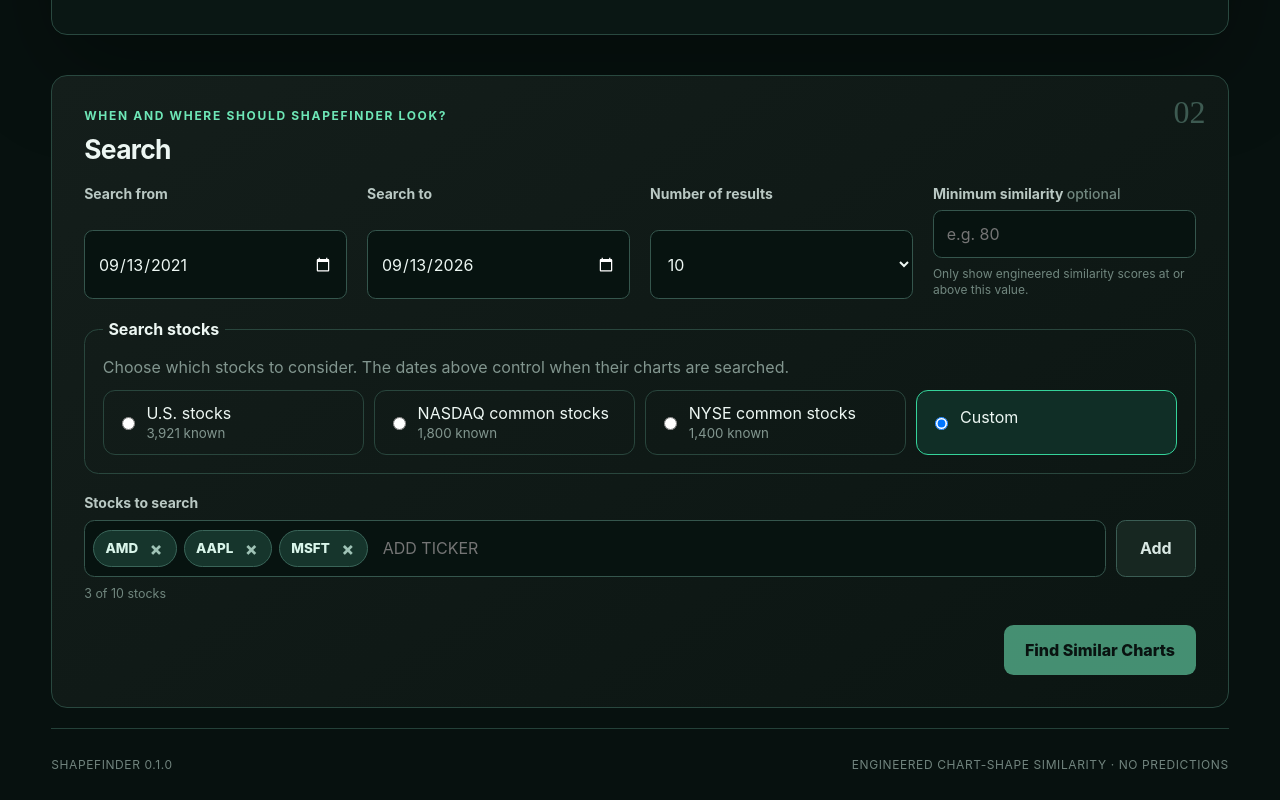
Test case: similarity search workflow › renders provider-backed universe choices and keeps chips in Custom mode
(page scrolled)
Expected: the radio button labelled "U.S. stocks 3,921 known" is shown, left=122, top=417, right=135, bottom=430
Expected: the field labelled "Stocks to search" is shown, left=376, top=529, right=1097, bottom=568
Click the radio button labelled "NASDAQ common stocks 1,800 known" at coordinates (399, 424), box left=393, top=417, right=406, bottom=430
(page scrolled)
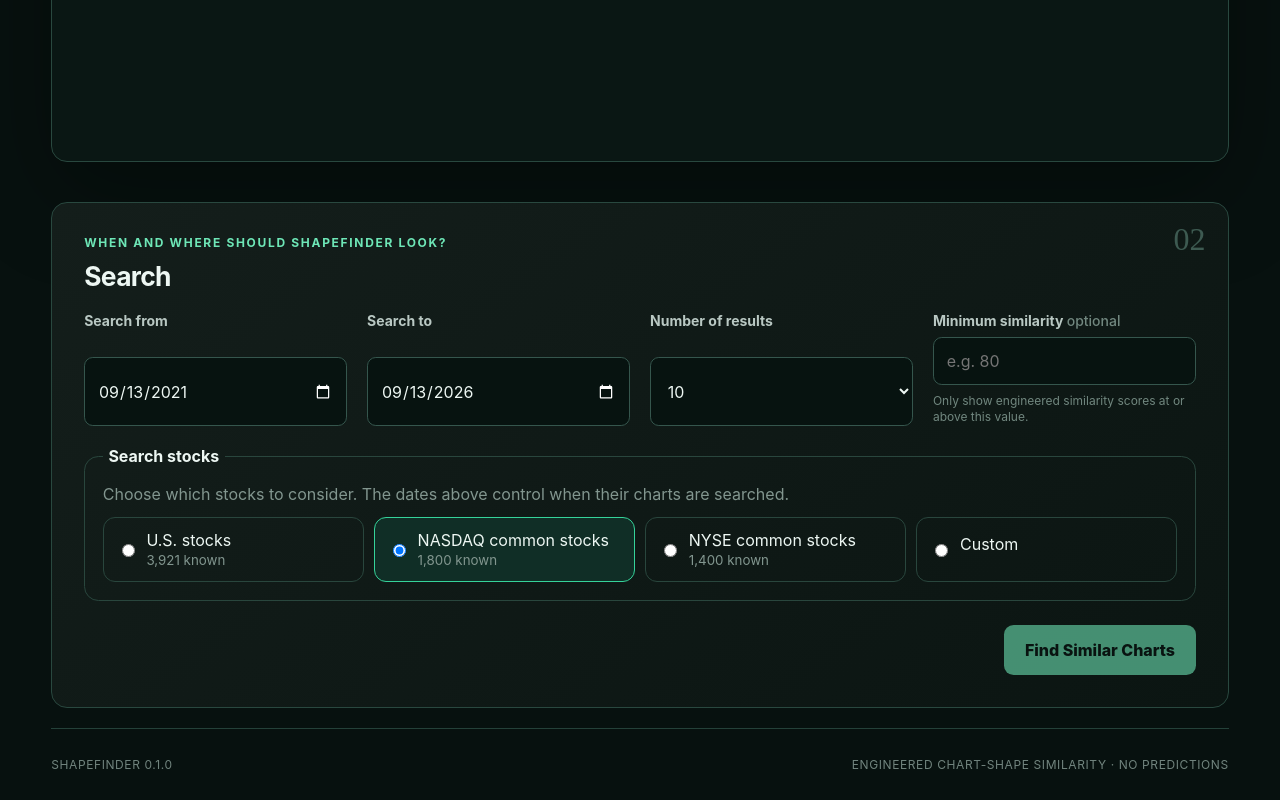
Result: the label labelled "Stocks to search" is gone
Click the radio button labelled "Custom" at coordinates (942, 551), box left=935, top=544, right=948, bottom=557
(page scrolled)
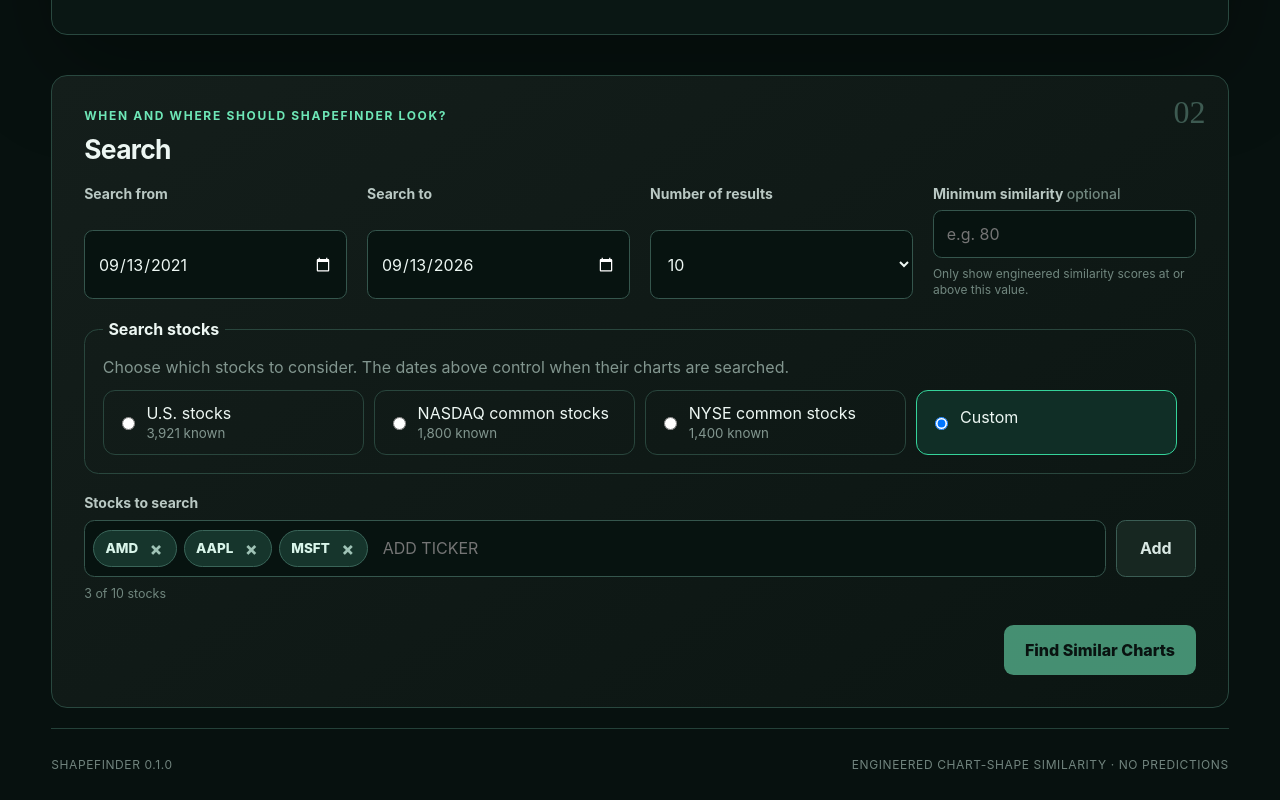
Result: the field labelled "Stocks to search" is shown at left=376, top=529, right=1097, bottom=568
